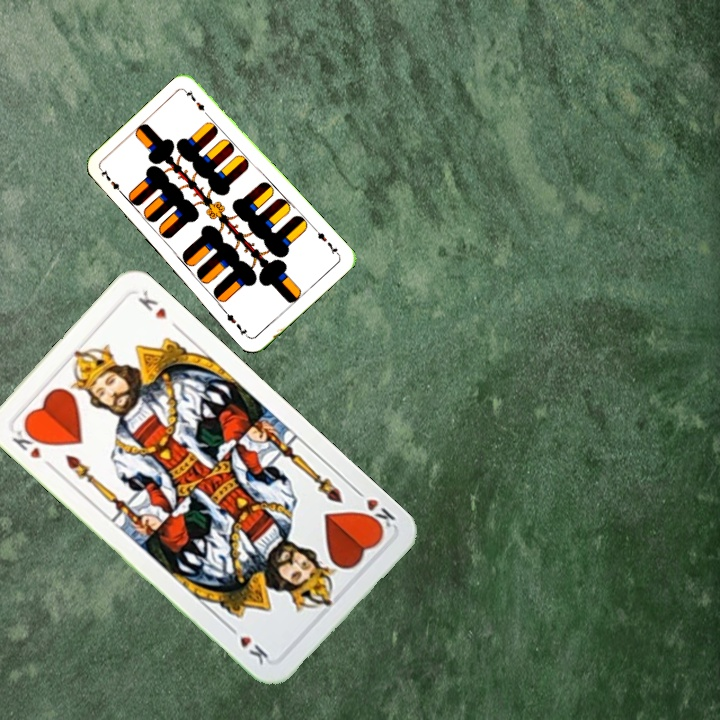E7: (310, 225, 342, 258), (97, 165, 127, 199)
HK: (350, 483, 398, 536), (8, 421, 57, 472)
